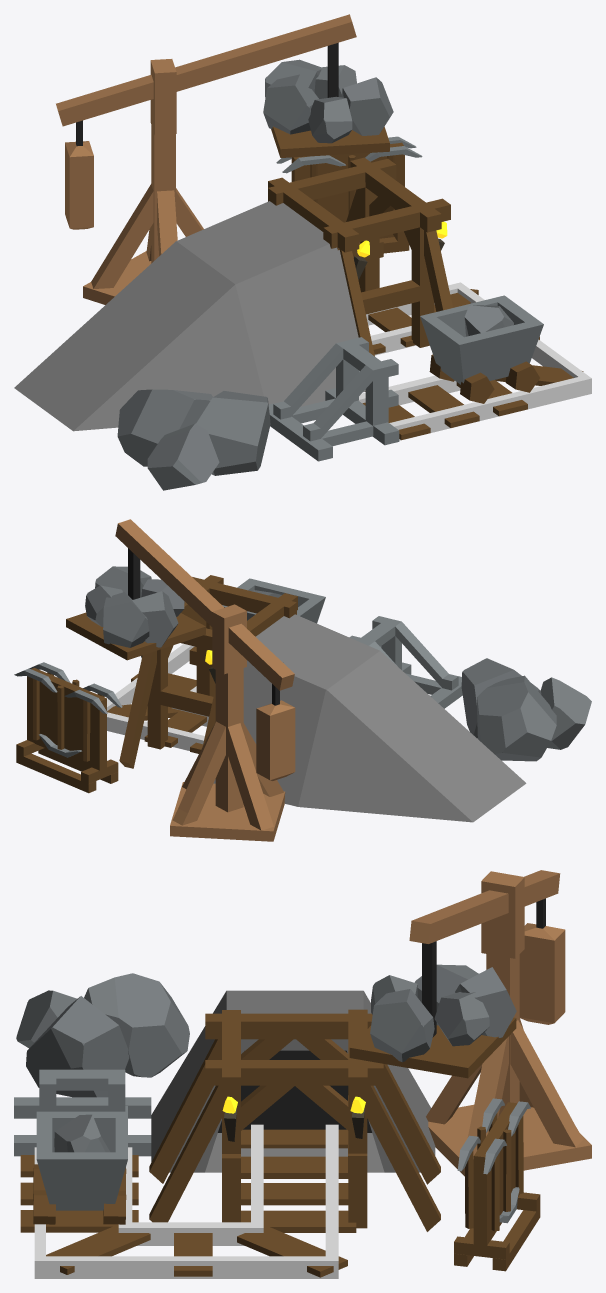
Rendered from StoneMineFlat3.fbx.
The picture shows the model from 3 angles, top to bottom: view 1: azimuth 30°, elevation 25°; view 2: azimuth 150°, elevation 25°; view 3: azimuth 270°, elevation 25°; orthographic projection. The views are drawn at different scales.
Visible parts, largest first — view 1: Cube, Cube.079, Cube.080, Cube.030, Cube.015, Cube.023, Cube.043, Cube.029, Cube.014, Cube.031, Cube.048, Cube.042 (+25 smaller); view 2: Cube, Cube.043, Cube.030, Cube.029, Cube.036, Cube.079, Cube.024, Cube.031, Cube.027, Cube.025, Cube.014, Cube.042 (+22 smaller); view 3: Cube, Cube.023, Cube.080, Cube.043, Cube.015, Cube.079, Cube.031, Cube.029, Cube.022, Cube.030, Cube.004, Cube.024 (+40 smaller).
Boxes of the visible parts, x1=… form: Cube: x1=14, y1=201, x2=365, y2=431; Cube.079: x1=268, y1=337, x2=399, y2=461; Cube.080: x1=420, y1=295, x2=543, y2=403; Cube.030: x1=56, y1=14, x2=356, y2=126; Cube.015: x1=196, y1=391, x2=270, y2=475; Cube.023: x1=366, y1=282, x2=591, y2=440; Cube.043: x1=117, y1=389, x2=212, y2=466; Cube.029: x1=150, y1=59, x2=176, y2=263; Cube.014: x1=147, y1=423, x2=219, y2=490; Cube.031: x1=65, y1=120, x2=93, y2=229; Cube.048: x1=263, y1=74, x2=318, y2=134; Cube.042: x1=271, y1=126, x2=389, y2=157; Cube: x1=213, y1=614, x2=526, y2=822; Cube.043: x1=477, y1=675, x2=556, y2=761; Cube.030: x1=115, y1=519, x2=294, y2=690; Cube.029: x1=212, y1=604, x2=246, y2=812; Cube.036: x1=27, y1=668, x2=106, y2=770; Cube.079: x1=349, y1=616, x2=462, y2=708; Cube.024: x1=170, y1=782, x2=285, y2=841; Cube.031: x1=256, y1=684, x2=295, y2=780; Cube.027: x1=228, y1=723, x2=273, y2=830; Cube.025: x1=172, y1=721, x2=225, y2=825; Cube.014: x1=540, y1=677, x2=591, y2=749; Cube.042: x1=66, y1=612, x2=205, y2=660; Cube: x1=151, y1=990, x2=435, y2=1172; Cube.023: x1=34, y1=1124, x2=338, y2=1278; Cube.080: x1=33, y1=1111, x2=127, y2=1224; Cube.043: x1=84, y1=973, x2=189, y2=1077; Cube.015: x1=26, y1=996, x2=129, y2=1097; Cube.079: x1=14, y1=1069, x2=151, y2=1156; Cube.031: x1=519, y1=898, x2=565, y2=1024; Cube.029: x1=481, y1=871, x2=524, y2=1116; Cube.022: x1=118, y1=1124, x2=263, y2=1245; Cube.030: x1=409, y1=870, x2=560, y2=943; Cube.004: x1=205, y1=1060, x2=383, y2=1085; Cube.024: x1=428, y1=1104, x2=591, y2=1176.
Size of the model in its own units: 1193 by 704 by 1133.
